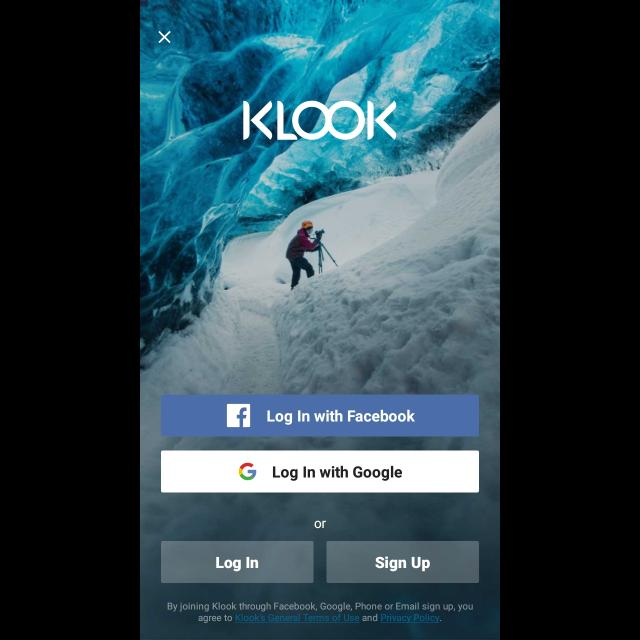backgroundimage: (140, 1, 500, 640)
icon: (159, 32, 171, 44)
image: (243, 101, 397, 141)
text: (168, 602, 472, 624), (315, 521, 327, 529)
textbutton: (161, 451, 479, 493), (161, 395, 479, 437), (327, 541, 479, 583), (162, 541, 314, 583)
